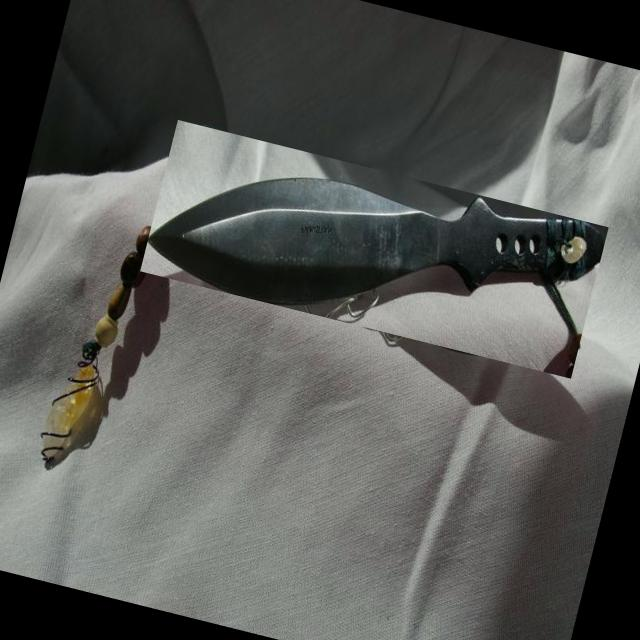Knife: (148, 178, 603, 305)
